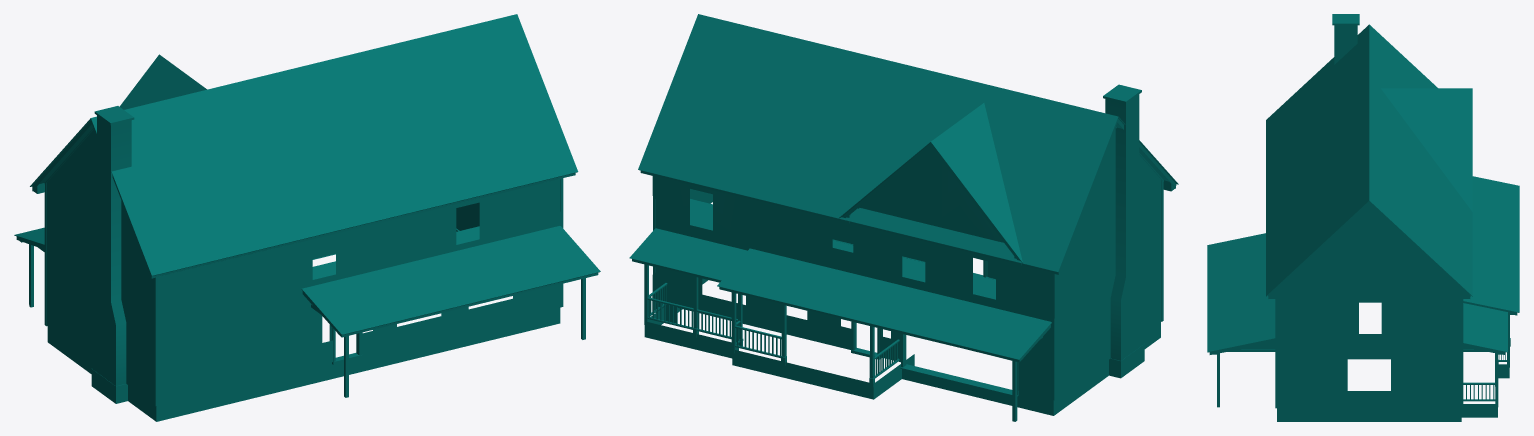
File: HouseA_TILES.fbx
3 renders of one model, left to right at view 1: azimuth 30°, elevation 25°; view 2: azimuth 150°, elevation 25°; view 3: azimuth 270°, elevation 25°, orthographic. The views are drawn at different scales.
Parts seen in each view (by area): view 1: HouseA_TILES_LOD0; view 2: HouseA_TILES_LOD0; view 3: HouseA_TILES_LOD0.
Part boxes in pixels (x1,y1,x2,y2): HouseA_TILES_LOD0: (14, 14, 600, 421); HouseA_TILES_LOD0: (629, 14, 1178, 421); HouseA_TILES_LOD0: (1207, 14, 1519, 421).
Size of what is drawn, in the model's own units: 1790 by 1111 by 1334.
